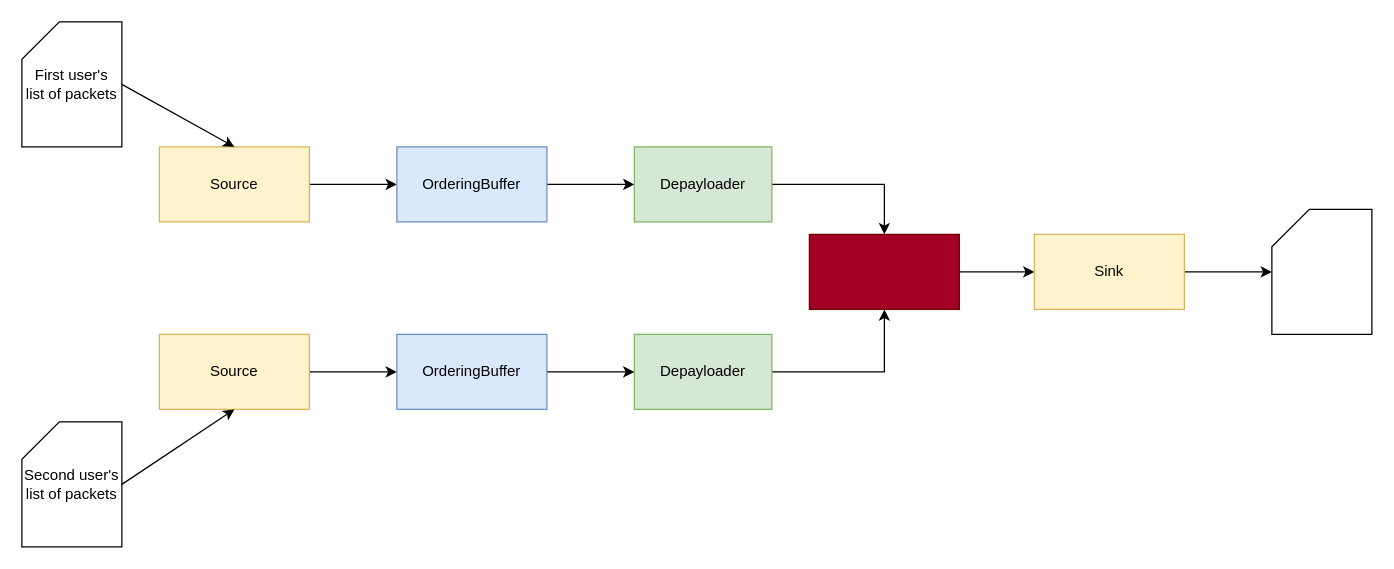
Some shapes in this 1394 by 569 pixel diagram are drawn without their labels. Each missing label, with the centre of its shape:
"Mixer" goes at point 883,271.
"Reproduced conversation" goes at point 1321,271.
